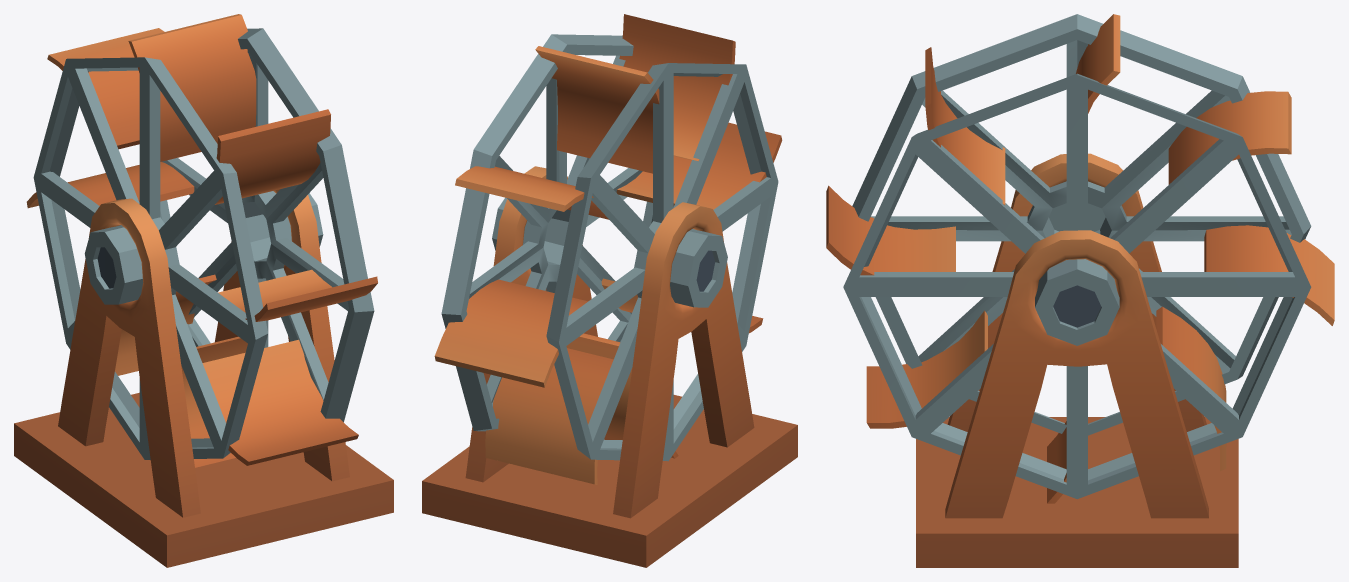
File: WaterMill.fbx
3 renders of one model, left to right at view 1: azimuth 30°, elevation 25°; view 2: azimuth 150°, elevation 25°; view 3: azimuth 270°, elevation 25°, orthographic. The views are drawn at different scales.
Parts seen in each view (by area): view 1: WaterMill; view 2: WaterMill; view 3: WaterMill.
Boxes of the visible parts, x1=… form: WaterMill: x1=14, y1=14, x2=393, y2=567; WaterMill: x1=422, y1=14, x2=797, y2=567; WaterMill: x1=826, y1=14, x2=1334, y2=567.
Size of the model in its own units: 1.18 by 2.2 by 2.17.
